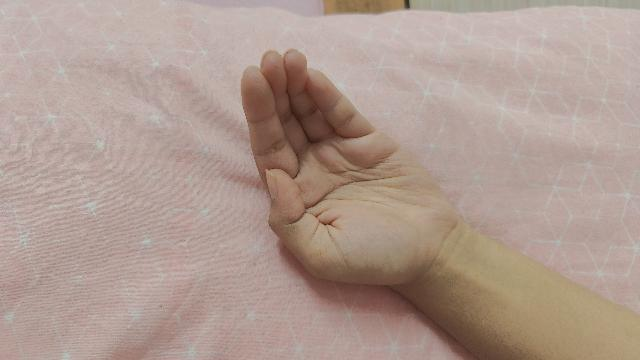sarpsheesh: (240, 51, 640, 360)
